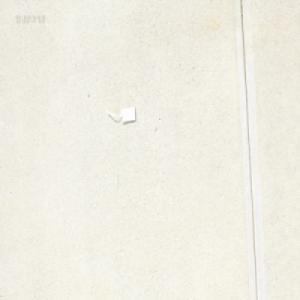LuggageTag: (105, 105, 136, 123)
